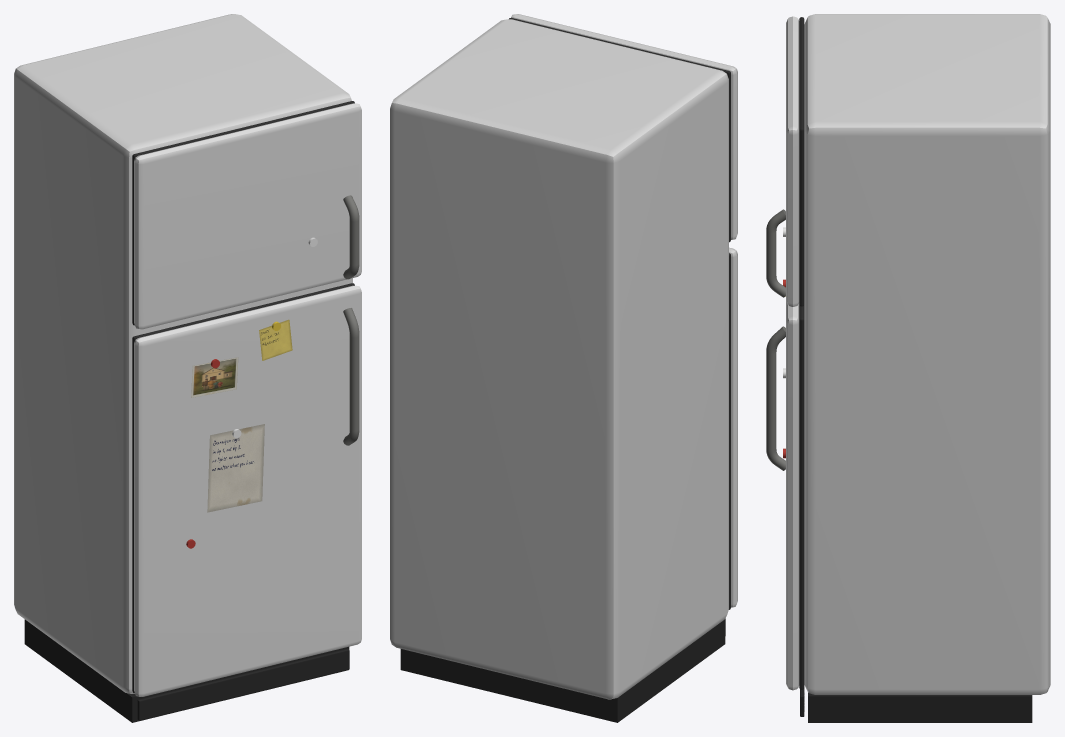
The model's file is SM_Fridge.fbx.
The picture shows the model from 3 angles, left to right: view 1: azimuth 30°, elevation 25°; view 2: azimuth 150°, elevation 25°; view 3: azimuth 270°, elevation 25°; orthographic projection. The views are drawn at different scales.
Parts seen in each view (by area): view 1: SM_Fridge; view 2: SM_Fridge; view 3: SM_Fridge.
Part boxes in pixels (box(x1,y1,x2,y2)): SM_Fridge: box(14, 14, 361, 722); SM_Fridge: box(390, 14, 737, 722); SM_Fridge: box(766, 14, 1050, 722).
Bounding box in the file's own units: 75 × 180 × 77.4.
